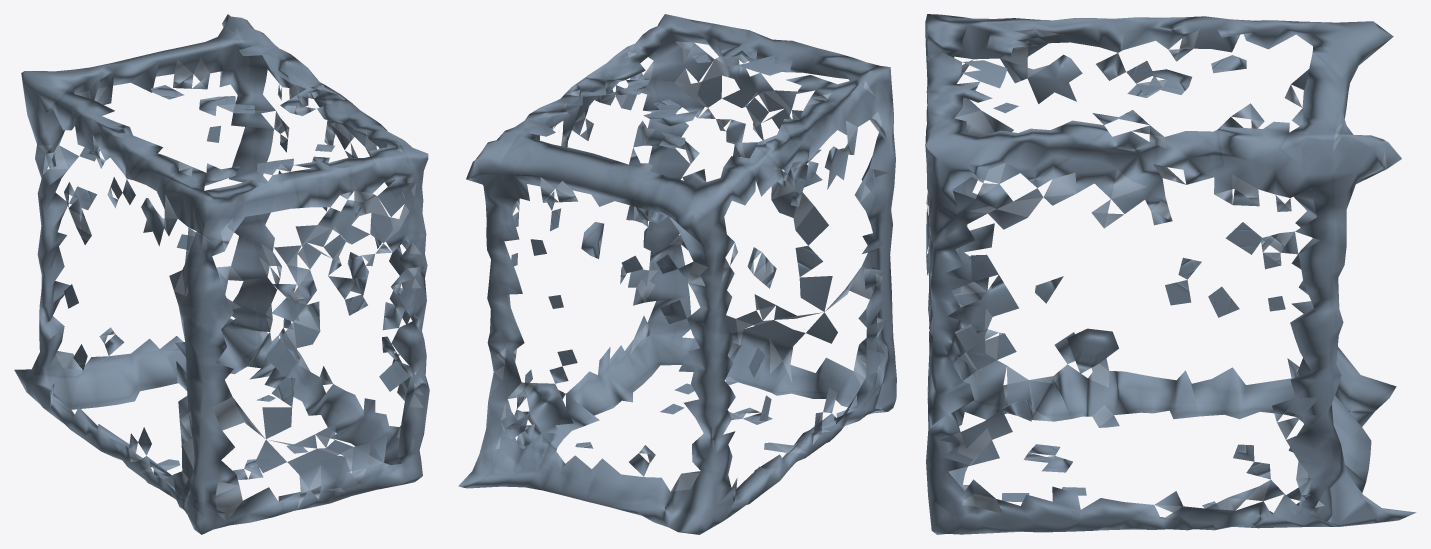
The model's file is sample_620_recon.obj.
3 renders of one model, left to right at view 1: azimuth 30°, elevation 25°; view 2: azimuth 150°, elevation 25°; view 3: azimuth 270°, elevation 25°, orthographic. The views are drawn at different scales.
Size of the model in its own units: 0.9084 by 1.24 by 1.37.
